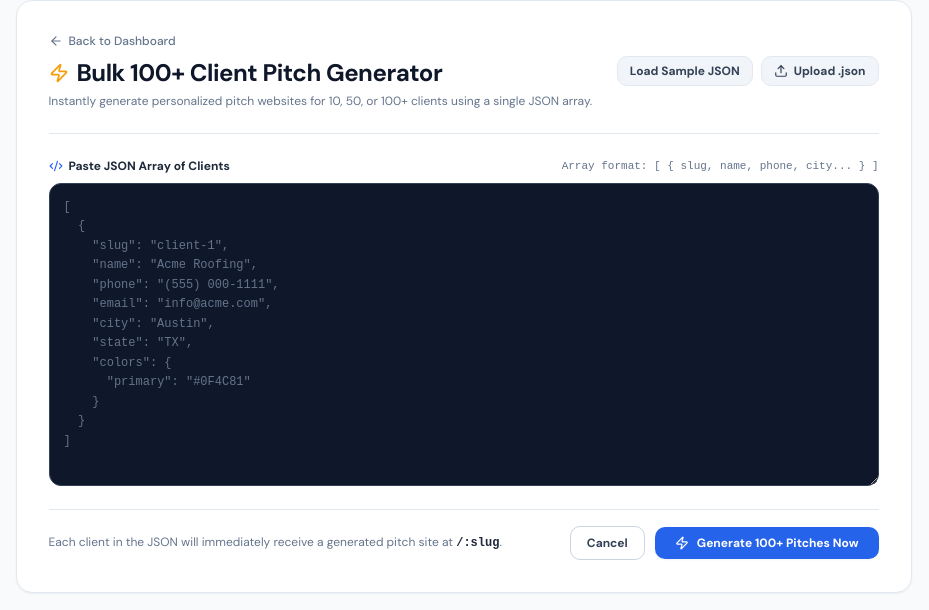
BulkCreator Component › successfully generates clients when valid JSON array is submitted
Step 1. Click the button "Load Sample JSON" → [685, 71], box [617,56,753,86]
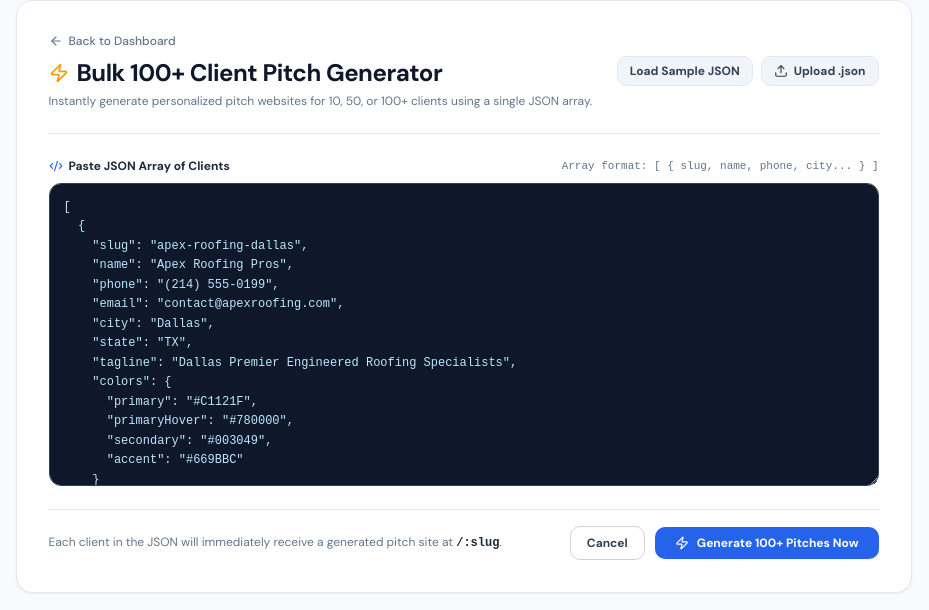
Step 2. Click the button "Generate 100+ Pitches Now" → [767, 542], box [655,526,878,558]
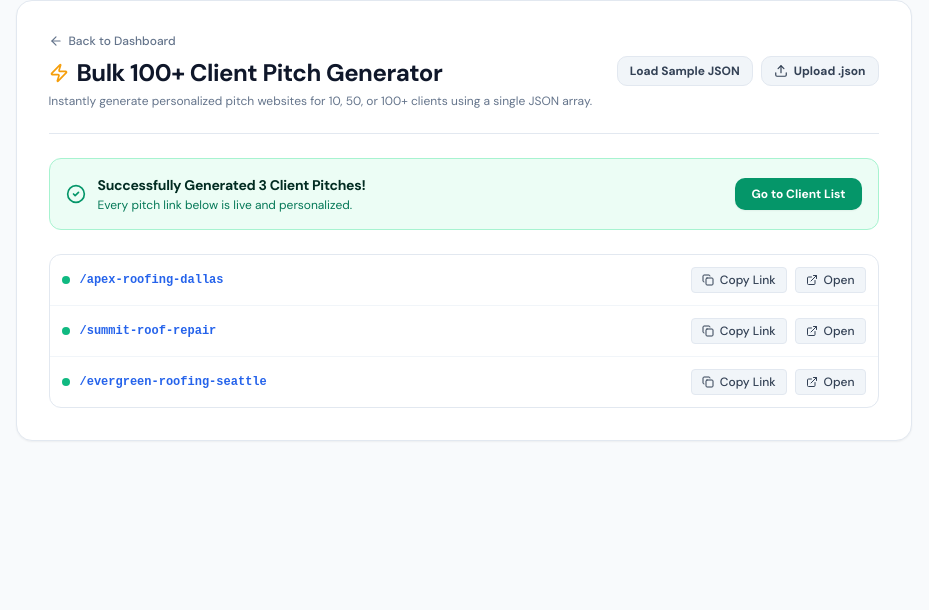
Expected: the heading "Successfully Generated 3 Client Pitches!" is shown, [98,175,366,195]
